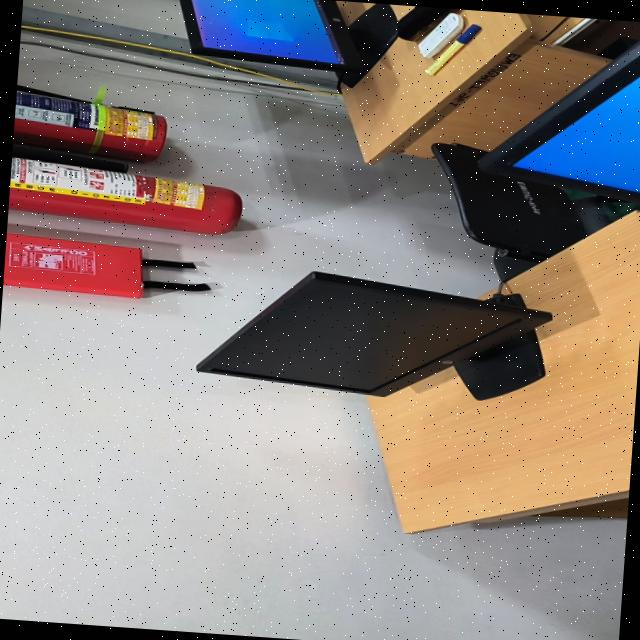Chair: (432, 142, 587, 282)
Fire Extinguisher: (7, 155, 241, 234), (12, 86, 165, 161)
Monitor: (196, 271, 550, 399), (179, 0, 396, 87)
